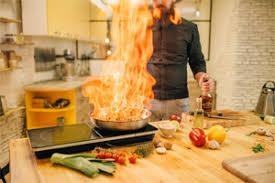fire: (79, 0, 177, 124)
